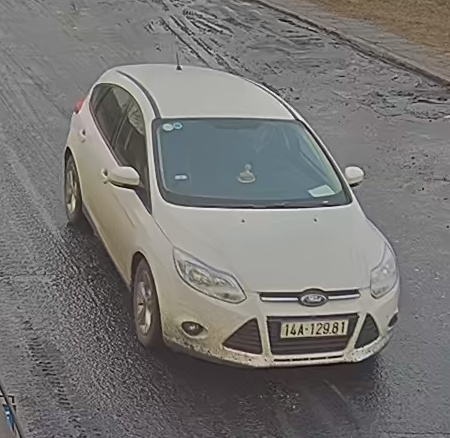vehicle plate: (276, 316, 359, 338)
